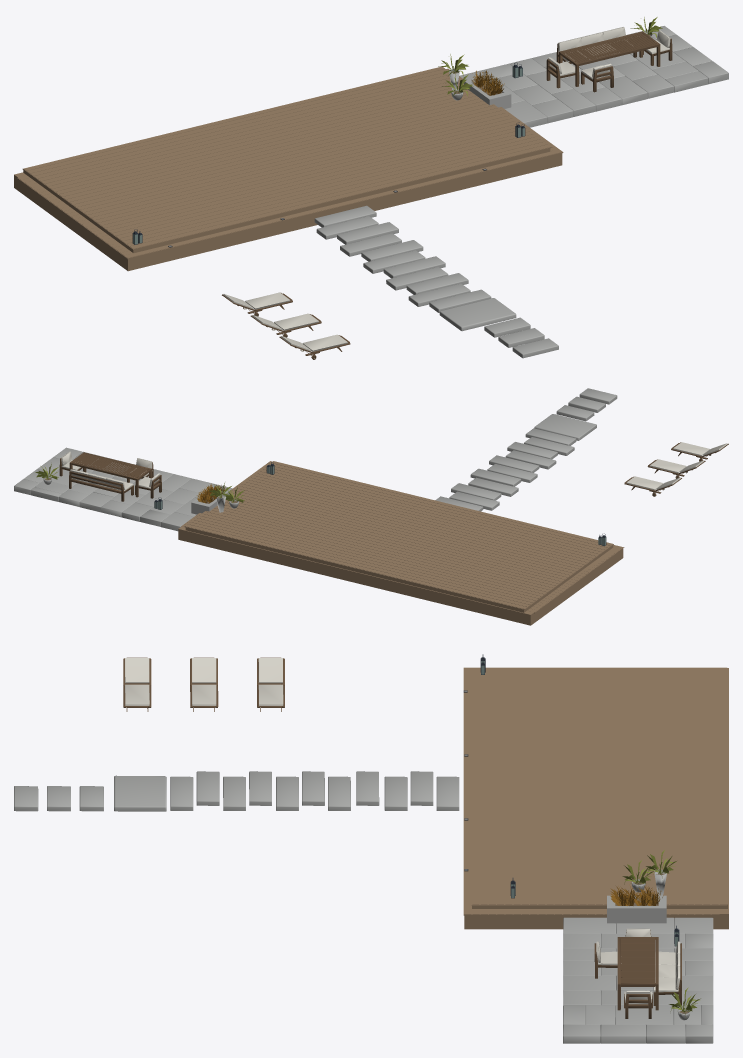
File: deck.obj
The picture shows the model from 3 angles, top to bottom: view 1: azimuth 30°, elevation 25°; view 2: azimuth 150°, elevation 25°; view 3: azimuth 270°, elevation 25°; orthographic projection. The views are drawn at different scales.
Visible parts, largest first — view 1: Mesh19 mesh_915_1 shed_Deck G_3_Deck_Decorative_fbx1 Model, Mesh22 mesh_915_1 shed_Deck G_3_Deck_Decorative_fbx1 Model, Mesh20 mesh_915_1 shed_Deck G_3_Deck_Decorative_fbx1 Model, Mesh18 mesh_915_1 shed_Deck G_3_Deck_Decorative_fbx1 Model, Mesh21 mesh_915_1 shed_Deck G_3_Deck_Decorative_fbx1 Model, Mesh87 mesh_916_1 PAthway_C G_3_Deck_Decorative_fbx1 Model, Mesh17 mesh_915_1 shed_Deck G_3_Deck_Decorative_fbx1 Model, Mesh808 G_3DGeom_1316 lounge_wood22 lounge_wood SimLab_2022_02_2, Mesh65 mesh_916_1 PAthway_C G_3_Deck_Decorative_fbx1 Model, Mesh101 mesh_916_1 PAthway_C G_3_Deck_Decorative_fbx1 Model, Mesh96 mesh_916_1 PAthway_C G_3_Deck_Decorative_fbx1 Model, Mesh94 mesh_916_1 PAthway_C G_3_Deck_Decorative_fbx1 Model (+18 smaller); view 2: Mesh19 mesh_915_1 shed_Deck G_3_Deck_Decorative_fbx1 Model, Mesh22 mesh_915_1 shed_Deck G_3_Deck_Decorative_fbx1 Model, Mesh20 mesh_915_1 shed_Deck G_3_Deck_Decorative_fbx1 Model, Mesh21 mesh_915_1 shed_Deck G_3_Deck_Decorative_fbx1 Model, Mesh87 mesh_916_1 PAthway_C G_3_Deck_Decorative_fbx1 Model, Mesh17 mesh_915_1 shed_Deck G_3_Deck_Decorative_fbx1 Model, Mesh808 G_3DGeom_1316 lounge_wood22 lounge_wood SimLab_2022_02_2, Mesh101 mesh_916_1 PAthway_C G_3_Deck_Decorative_fbx1 Model, Mesh95 mesh_916_1 PAthway_C G_3_Deck_Decorative_fbx1 Model, Mesh99 mesh_916_1 PAthway_C G_3_Deck_Decorative_fbx1 Model, Mesh98 mesh_916_1 PAthway_C G_3_Deck_Decorative_fbx1 Model, Mesh57 mesh_916_1 PAthway_C G_3_Deck_Decorative_fbx1 Model (+6 smaller); view 3: Mesh19 mesh_915_1 shed_Deck G_3_Deck_Decorative_fbx1 Model, Mesh22 mesh_915_1 shed_Deck G_3_Deck_Decorative_fbx1 Model, Mesh20 mesh_915_1 shed_Deck G_3_Deck_Decorative_fbx1 Model, Mesh18 mesh_915_1 shed_Deck G_3_Deck_Decorative_fbx1 Model, Mesh87 mesh_916_1 PAthway_C G_3_Deck_Decorative_fbx1 Model, Mesh738 Planter G_3_Deck_Decorative_fbx1 Model, Mesh60 mesh_916_1 PAthway_C G_3_Deck_Decorative_fbx1 Model, Mesh80 mesh_916_1 PAthway_C G_3_Deck_Decorative_fbx1 Model, Mesh83 mesh_916_1 PAthway_C G_3_Deck_Decorative_fbx1 Model, Mesh57 mesh_916_1 PAthway_C G_3_Deck_Decorative_fbx1 Model, Mesh65 mesh_916_1 PAthway_C G_3_Deck_Decorative_fbx1 Model, Mesh98 mesh_916_1 PAthway_C G_3_Deck_Decorative_fbx1 Model (+21 smaller).
Boxes of the visible parts, box(x1,y1,x2,y2) form: Mesh19 mesh_915_1 shed_Deck G_3_Deck_Decorative_fbx1 Model: box(22, 66, 515, 223); Mesh22 mesh_915_1 shed_Deck G_3_Deck_Decorative_fbx1 Model: box(97, 121, 552, 249); Mesh20 mesh_915_1 shed_Deck G_3_Deck_Decorative_fbx1 Model: box(14, 68, 562, 271); Mesh18 mesh_915_1 shed_Deck G_3_Deck_Decorative_fbx1 Model: box(91, 126, 563, 259); Mesh21 mesh_915_1 shed_Deck G_3_Deck_Decorative_fbx1 Model: box(23, 148, 550, 253); Mesh87 mesh_916_1 PAthway_C G_3_Deck_Decorative_fbx1 Model: box(439, 298, 516, 331); Mesh17 mesh_915_1 shed_Deck G_3_Deck_Decorative_fbx1 Model: box(17, 76, 527, 232); Mesh808 G_3DGeom_1316 lounge_wood22 lounge_wood SimLab_2022_02_2: box(559, 31, 660, 86); Mesh65 mesh_916_1 PAthway_C G_3_Deck_Decorative_fbx1 Model: box(600, 76, 647, 105); Mesh101 mesh_916_1 PAthway_C G_3_Deck_Decorative_fbx1 Model: box(340, 233, 401, 256); Mesh96 mesh_916_1 PAthway_C G_3_Deck_Decorative_fbx1 Model: box(337, 222, 398, 244); Mesh94 mesh_916_1 PAthway_C G_3_Deck_Decorative_fbx1 Model: box(383, 256, 445, 278); Mesh19 mesh_915_1 shed_Deck G_3_Deck_Decorative_fbx1 Model: box(184, 482, 585, 609); Mesh22 mesh_915_1 shed_Deck G_3_Deck_Decorative_fbx1 Model: box(245, 461, 613, 565); Mesh20 mesh_915_1 shed_Deck G_3_Deck_Decorative_fbx1 Model: box(178, 463, 623, 625); Mesh21 mesh_915_1 shed_Deck G_3_Deck_Decorative_fbx1 Model: box(185, 527, 613, 612); Mesh87 mesh_916_1 PAthway_C G_3_Deck_Decorative_fbx1 Model: box(534, 414, 596, 440); Mesh17 mesh_915_1 shed_Deck G_3_Deck_Decorative_fbx1 Model: box(181, 482, 595, 613); Mesh808 G_3DGeom_1316 lounge_wood22 lounge_wood SimLab_2022_02_2: box(69, 452, 151, 497); Mesh101 mesh_916_1 PAthway_C G_3_Deck_Decorative_fbx1 Model: box(468, 477, 518, 496); Mesh95 mesh_916_1 PAthway_C G_3_Deck_Decorative_fbx1 Model: box(470, 468, 521, 486); Mesh99 mesh_916_1 PAthway_C G_3_Deck_Decorative_fbx1 Model: box(505, 450, 556, 469); Mesh98 mesh_916_1 PAthway_C G_3_Deck_Decorative_fbx1 Model: box(524, 437, 574, 455); Mesh57 mesh_916_1 PAthway_C G_3_Deck_Decorative_fbx1 Model: box(449, 491, 499, 510); Mesh19 mesh_915_1 shed_Deck G_3_Deck_Decorative_fbx1 Model: box(554, 667, 727, 905); Mesh22 mesh_915_1 shed_Deck G_3_Deck_Decorative_fbx1 Model: box(471, 667, 554, 905); Mesh20 mesh_915_1 shed_Deck G_3_Deck_Decorative_fbx1 Model: box(464, 668, 728, 929); Mesh18 mesh_915_1 shed_Deck G_3_Deck_Decorative_fbx1 Model: box(463, 667, 546, 915); Mesh87 mesh_916_1 PAthway_C G_3_Deck_Decorative_fbx1 Model: box(114, 775, 166, 811); Mesh738 Planter G_3_Deck_Decorative_fbx1 Model: box(607, 895, 666, 923); Mesh60 mesh_916_1 PAthway_C G_3_Deck_Decorative_fbx1 Model: box(615, 1005, 673, 1024); Mesh80 mesh_916_1 PAthway_C G_3_Deck_Decorative_fbx1 Model: box(600, 1024, 645, 1043); Mesh83 mesh_916_1 PAthway_C G_3_Deck_Decorative_fbx1 Model: box(563, 917, 615, 933); Mesh57 mesh_916_1 PAthway_C G_3_Deck_Decorative_fbx1 Model: box(410, 771, 433, 805); Mesh65 mesh_916_1 PAthway_C G_3_Deck_Decorative_fbx1 Model: box(563, 975, 615, 990); Mesh98 mesh_916_1 PAthway_C G_3_Deck_Decorative_fbx1 Model: box(196, 771, 219, 805).
Size of the model in its own units: 1020 by 82.06 by 844.
